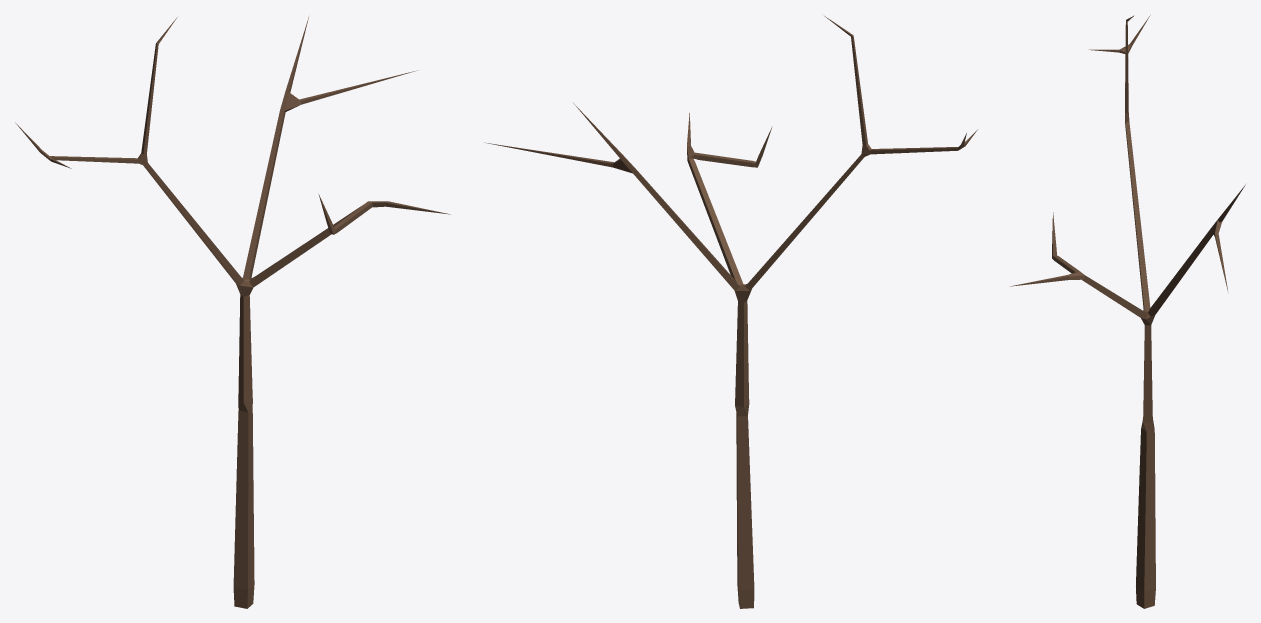
Rendered from Halloween_DeadTree.fbx.
3 renders of one model, left to right at view 1: azimuth 30°, elevation 25°; view 2: azimuth 150°, elevation 25°; view 3: azimuth 270°, elevation 25°, orthographic. The views are drawn at different scales.
Parts seen in each view (by area): view 1: Big dead tree; view 2: Big dead tree; view 3: Big dead tree.
Part boxes in pixels (left/top/right/bottom): Big dead tree: left=15, top=17, right=450, bottom=608; Big dead tree: left=485, top=16, right=977, bottom=608; Big dead tree: left=1009, top=15, right=1245, bottom=608.
Bounding box in the file's own units: 1616 × 2103 × 817.
